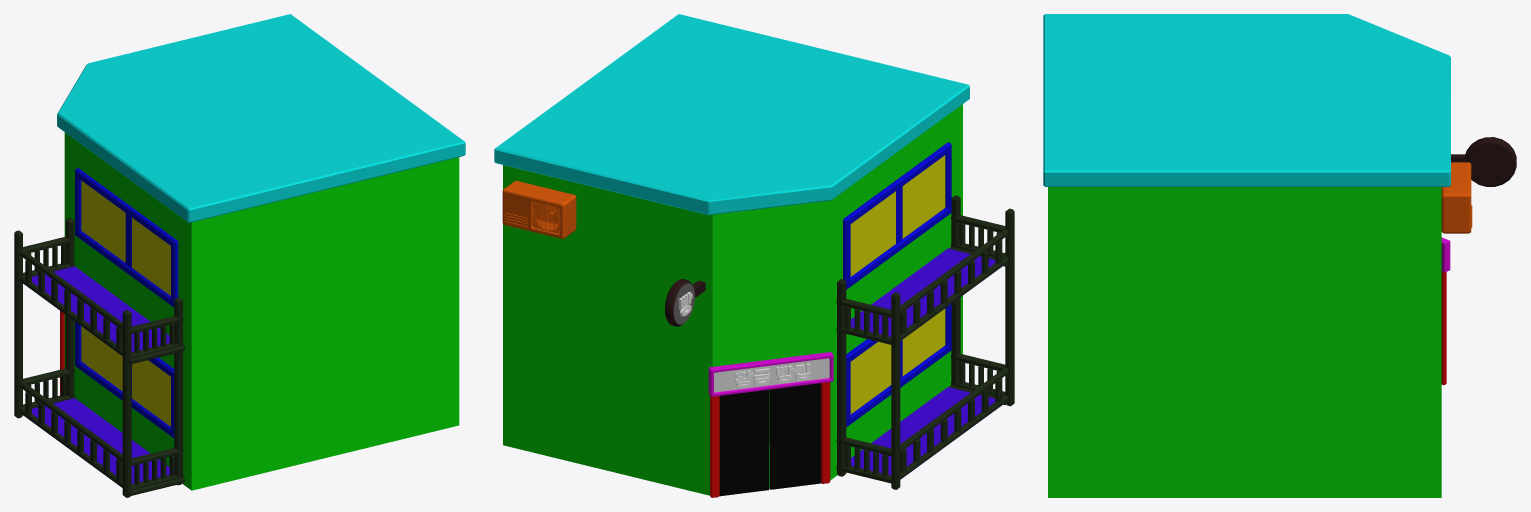
The model's file is Building_1_3.fbx.
The picture shows the model from 3 angles, left to right: view 1: azimuth 30°, elevation 25°; view 2: azimuth 150°, elevation 25°; view 3: azimuth 270°, elevation 25°; orthographic projection. The views are drawn at different scales.
Visible parts, largest first — view 1: polySurface1556; view 2: polySurface1556, polySurface1621, typeMesh29, polySurface1558; view 3: polySurface1556, polySurface1558.
Boxes of the visible parts, x1,y1,x2,y2 form: polySurface1556: (14,14,465,497); polySurface1556: (494,14,1014,497); polySurface1621: (708,352,833,396); typeMesh29: (735,363,810,387); polySurface1558: (665,279,694,326); polySurface1556: (1043,14,1472,497); polySurface1558: (1465,137,1516,186).
Size of the model in its own units: 217 by 178 by 232.
